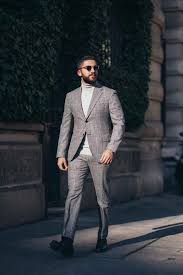middle_eastern_male: (80, 59, 99, 86)
